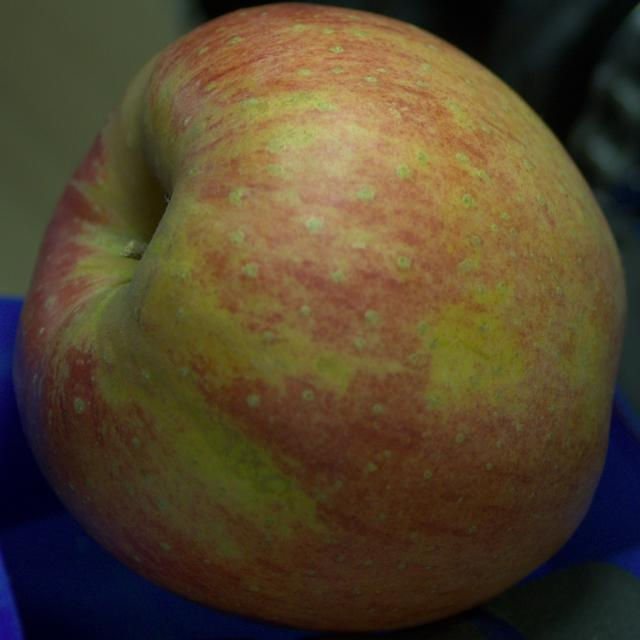apple: (14, 4, 626, 631)
